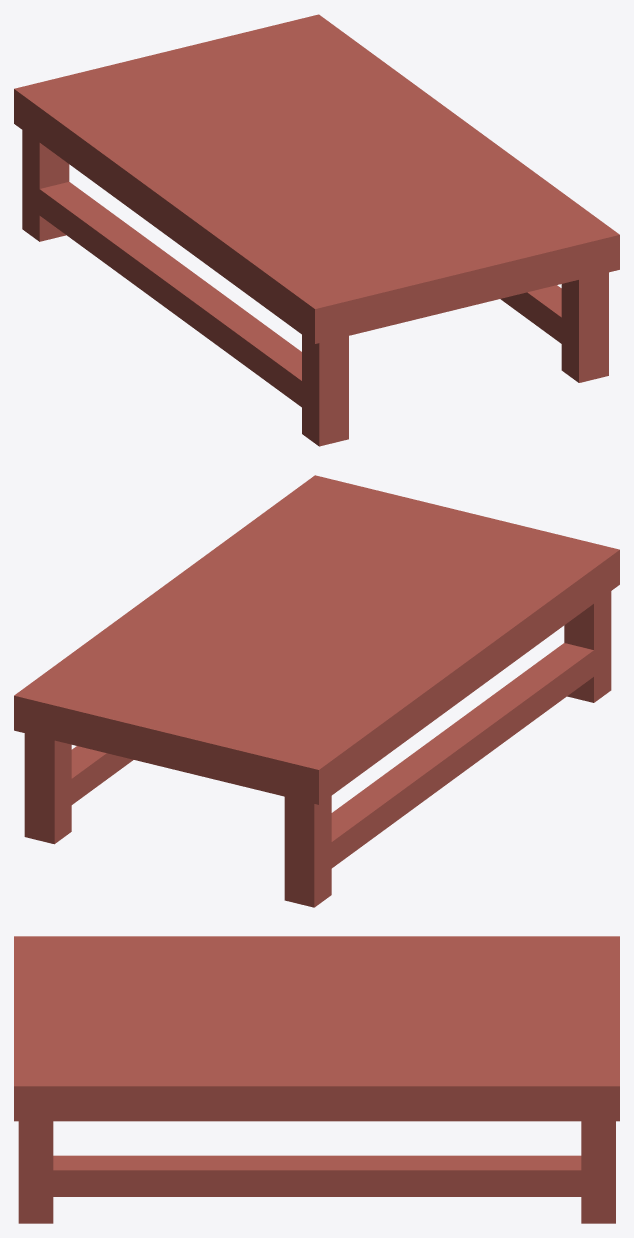
The model's file is CoffeeTable.fbx.
The picture shows the model from 3 angles, top to bottom: view 1: azimuth 30°, elevation 25°; view 2: azimuth 150°, elevation 25°; view 3: azimuth 270°, elevation 25°; orthographic projection.
Visible parts, largest first — view 1: Cube.000; view 2: Cube.000; view 3: Cube.000.
Part boxes in pixels (x1,y1,x2,y2): Cube.000: (14, 14, 619, 446); Cube.000: (14, 475, 619, 907); Cube.000: (14, 936, 619, 1223).
Bounding box in the file's own units: 174 × 76.56 × 297.
